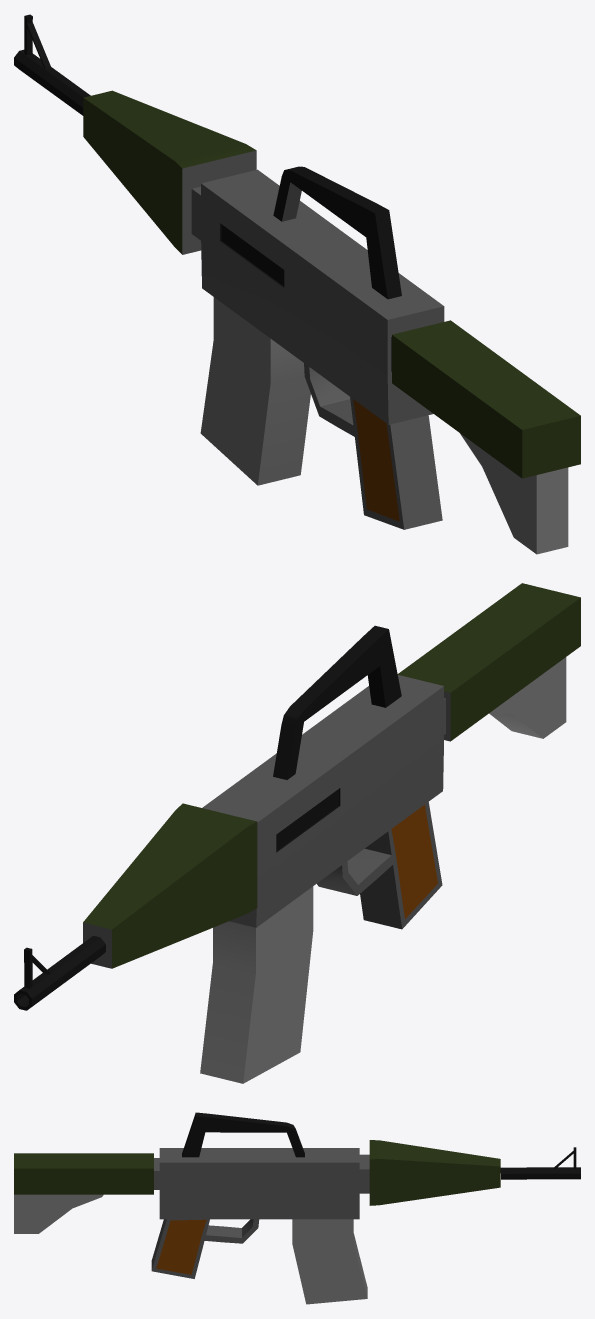
The picture shows the model from 3 angles, top to bottom: view 1: azimuth 30°, elevation 25°; view 2: azimuth 150°, elevation 25°; view 3: azimuth 270°, elevation 25°; orthographic projection. The views are drawn at different scales.
Parts seen in each view (by area): view 1: GunBody1; view 2: GunBody1; view 3: GunBody1.
Boxes of the visible parts, x1,y1,x2,y2 form: GunBody1: [14, 14, 580, 554]; GunBody1: [14, 583, 580, 1083]; GunBody1: [14, 1112, 580, 1304].
Size of the model in its own units: 46 by 203 by 566.
